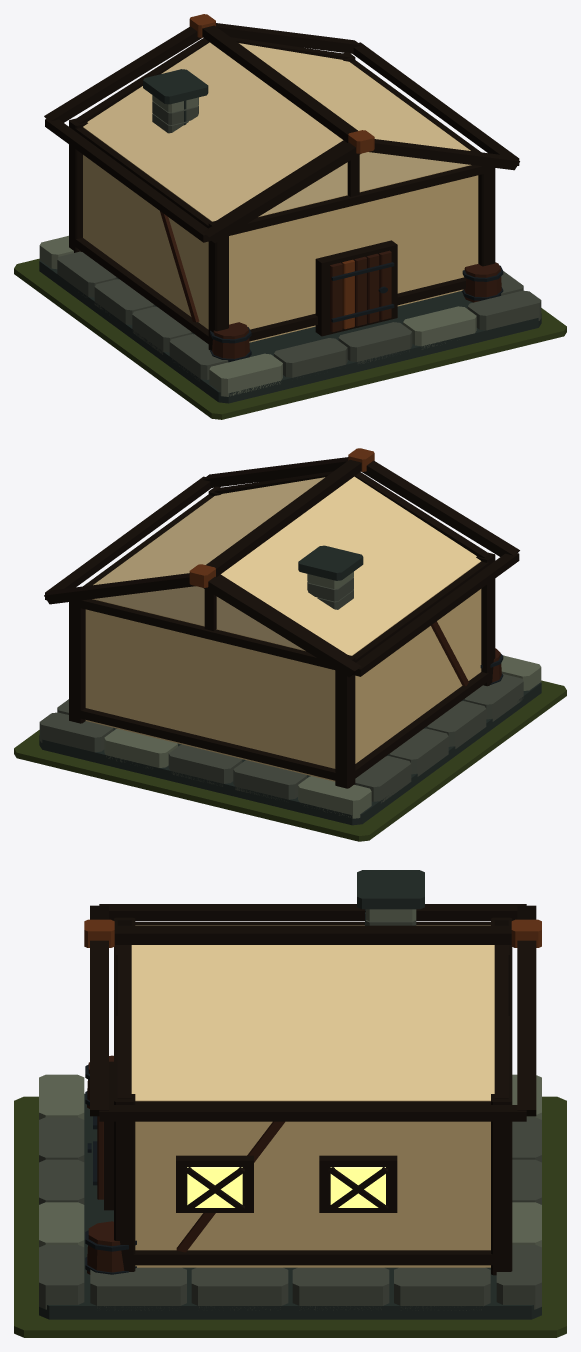
Rendered from longhouse_t4.glb.
3 views of the same model, one above another, from view 1: azimuth 30°, elevation 25°; view 2: azimuth 150°, elevation 25°; view 3: azimuth 270°, elevation 25° (orthographic). The views are drawn at different scales.
Parts seen in each view (by area): view 1: MMR | longhouse | T04 Architecture.001, MMR | longhouse | Tier 04 Ground.001; view 2: MMR | longhouse | T04 Architecture.001, MMR | longhouse | Tier 04 Ground.001; view 3: MMR | longhouse | T04 Architecture.001, MMR | longhouse | Tier 04 Ground.001.
Boxes of the visible parts, bbox=[...] form: MMR | longhouse | T04 Architecture.001: bbox=[39, 14, 541, 403]; MMR | longhouse | Tier 04 Ground.001: bbox=[14, 258, 566, 419]; MMR | longhouse | T04 Architecture.001: bbox=[39, 448, 541, 825]; MMR | longhouse | Tier 04 Ground.001: bbox=[14, 680, 566, 841]; MMR | longhouse | T04 Architecture.001: bbox=[39, 870, 541, 1319]; MMR | longhouse | Tier 04 Ground.001: bbox=[14, 1096, 566, 1337].
Size of the model in its own units: 3.3 by 1.94 by 3.3.
Materials: 2 (1 with a texture image).
